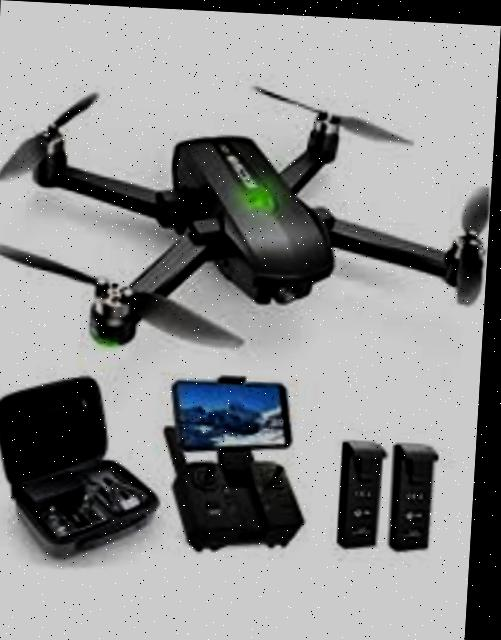drone: (0, 54, 498, 362)
